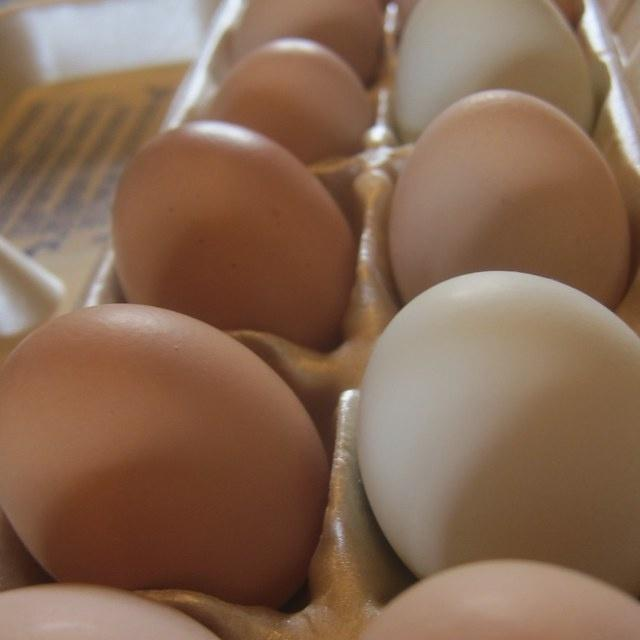egg: (0, 302, 329, 607), (355, 269, 640, 597), (110, 119, 356, 349), (386, 88, 631, 310), (391, 0, 595, 142), (301, 558, 640, 640), (204, 36, 374, 163), (228, 0, 383, 85), (391, 0, 582, 37)
